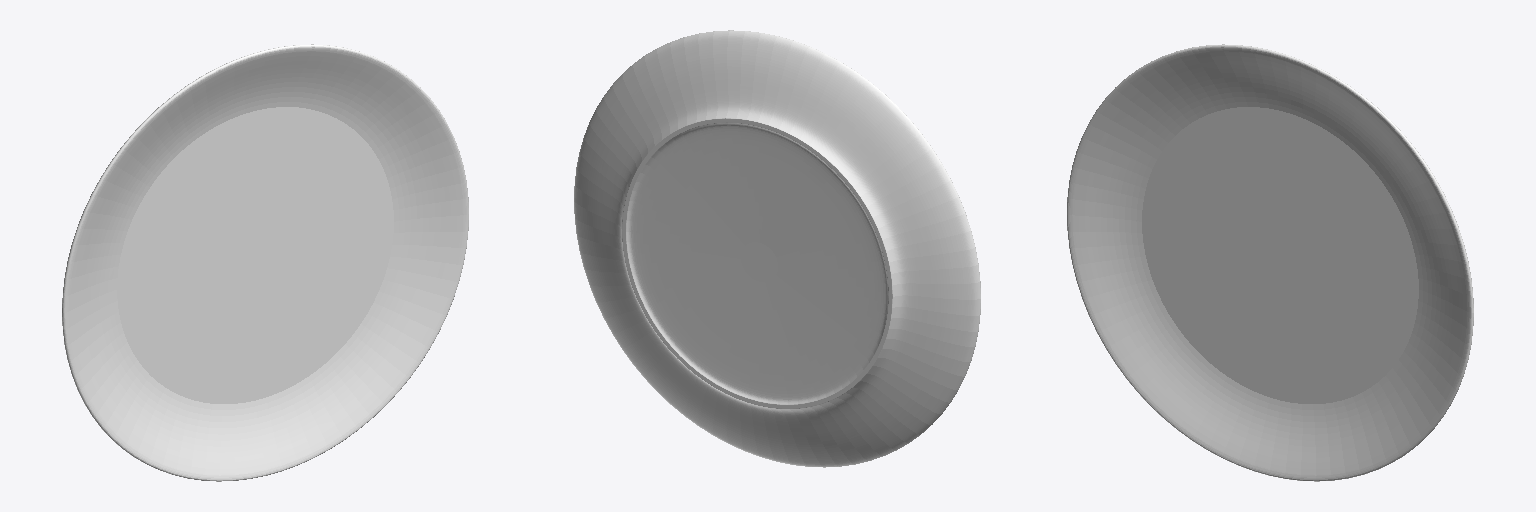
Rendered from ikea_dinera_plate_8in.obj.
3 renders of one model, left to right at view 1: azimuth 30°, elevation 25°; view 2: azimuth 150°, elevation 25°; view 3: azimuth 330°, elevation 25°, orthographic.
Parts seen in each view (by area): view 1: Node; view 2: Node; view 3: Node.
Part boxes in pixels (left/top/right/bottom): Node: left=62, top=44, right=468, bottom=481; Node: left=574, top=30, right=980, bottom=467; Node: left=1067, top=44, right=1473, bottom=481.
Size of the model in its own units: 0.1962 by 0.1962 by 0.0178.